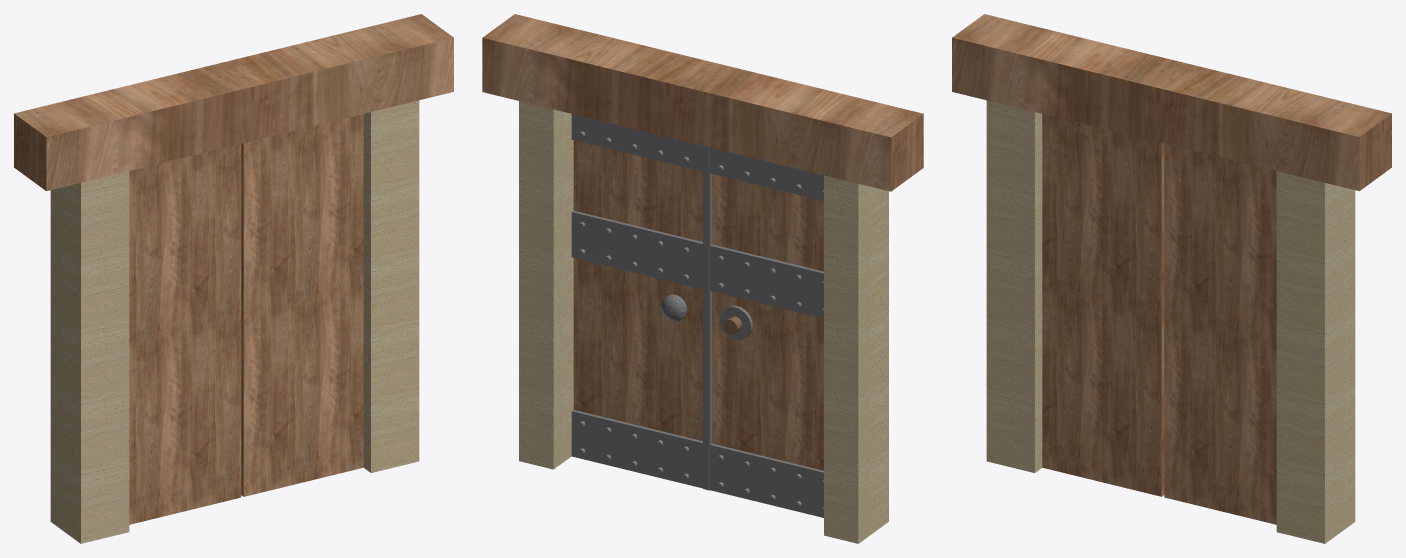
The model's file is double_door.fbx.
3 views of the same model, side by side, from view 1: azimuth 30°, elevation 25°; view 2: azimuth 150°, elevation 25°; view 3: azimuth 330°, elevation 25° (orthographic).
Parts seen in each view (by area): view 1: door_1, frame, lintel; view 2: door_1, frame, lintel, metal; view 3: door_1, frame, lintel.
Part boxes in pixels (x1=…): door_1: x1=129, y1=114, x2=363, y2=524; frame: x1=50, y1=100, x2=419, y2=543; lintel: x1=14, y1=14, x2=453, y2=191; door_1: x1=573, y1=140, x2=823, y2=470; frame: x1=519, y1=101, x2=888, y2=543; lintel: x1=482, y1=14, x2=923, y2=191; metal: x1=571, y1=114, x2=823, y2=517; door_1: x1=1042, y1=114, x2=1276, y2=524; frame: x1=986, y1=100, x2=1355, y2=543; lintel: x1=952, y1=14, x2=1391, y2=191.
Size of the model in its own units: 7.75 by 1.07 by 7.55.
5 materials, 4 textured.
